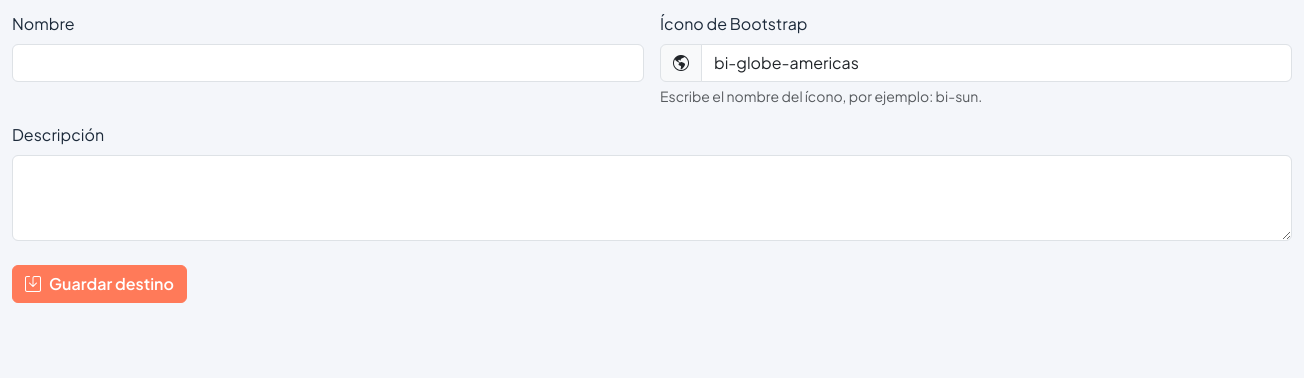
Scenario: FormularioDestino › muestra un error si el nombre está vacío
Type "Playas y cielos despejados." into the text box labelled "Descripción" at (652, 198), box [12, 155, 1292, 241]
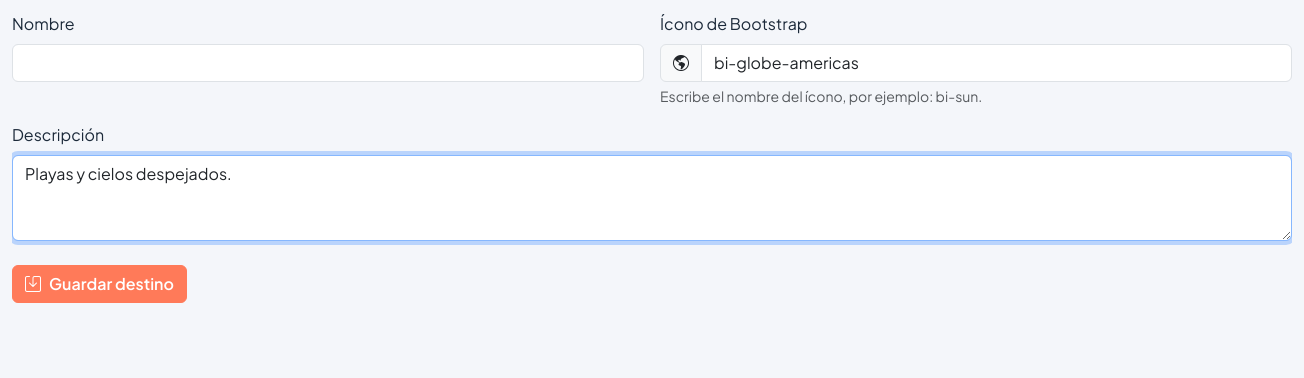
Click the button "Guardar destino" at (99, 284), box [12, 265, 187, 303]
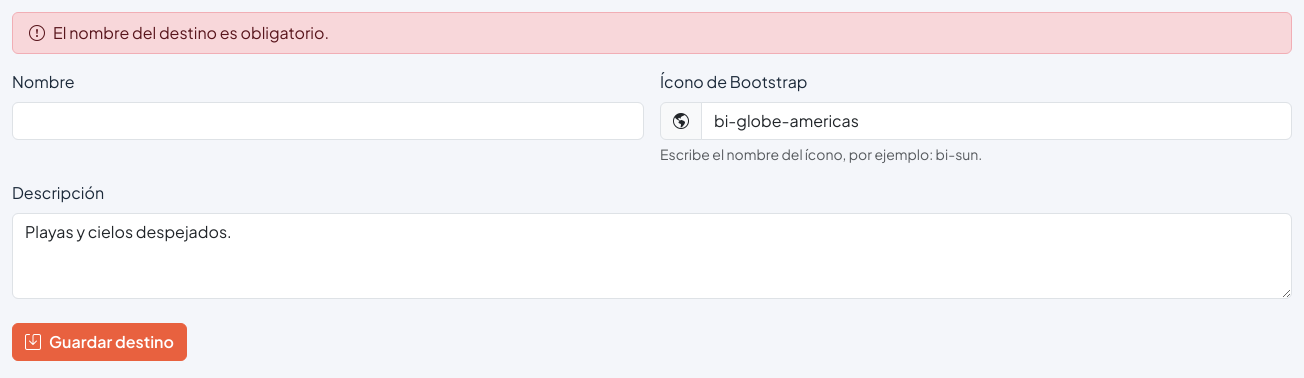
Expected: the message reads "El nombre del destino es obligatorio.", [53, 22, 329, 43]
